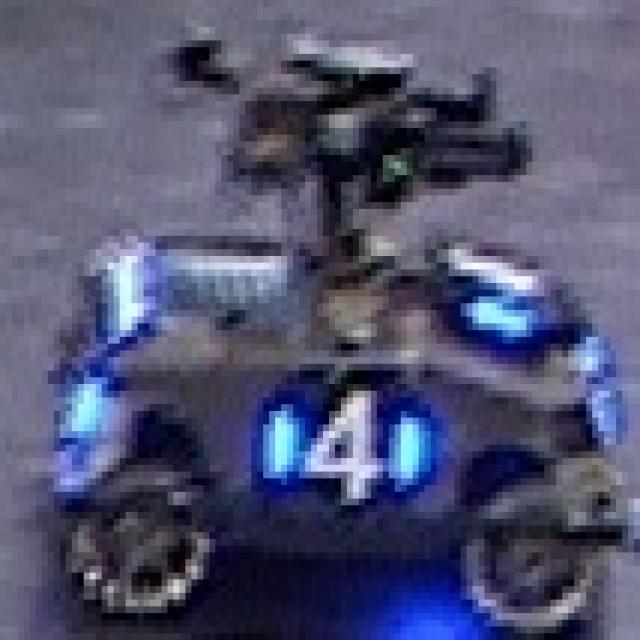B4: (245, 364, 425, 505)
